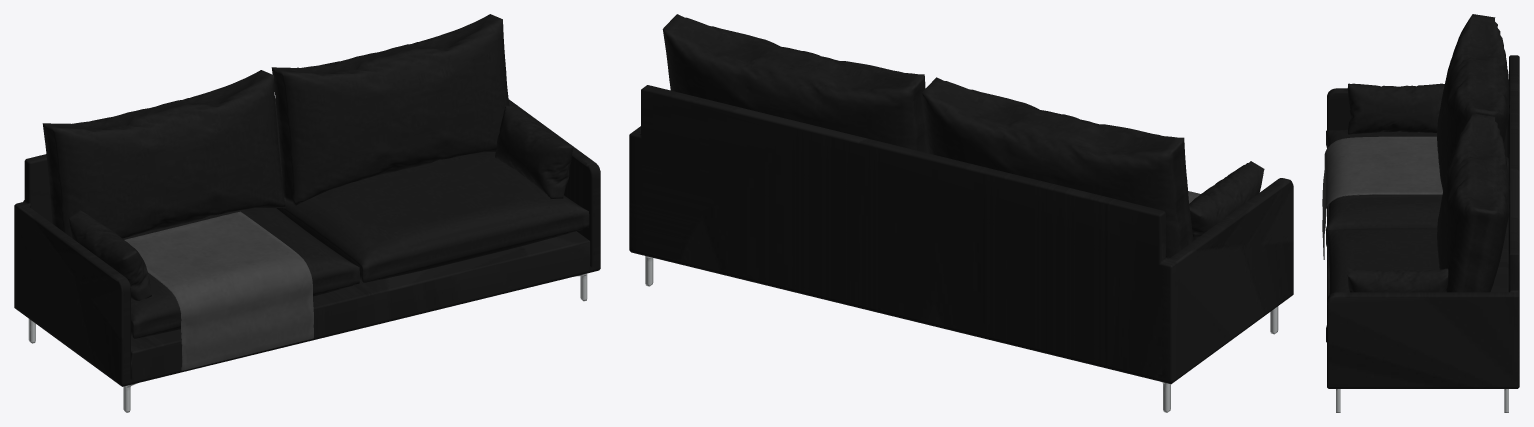
The picture shows the model from 3 angles, left to right: view 1: azimuth 30°, elevation 25°; view 2: azimuth 150°, elevation 25°; view 3: azimuth 270°, elevation 25°; orthographic projection. The views are drawn at different scales.
Visible parts, largest first — view 1: Handle_Cube.001, CushionRight_Cube.007, CushionLeft_Cube.006, CushionHandleRight_Cube.005, Plane_Plane.006, CushionHandleLeft_Cube.004, SideCushionRight_Cube.003, SideCushionLeft_Cube.002; view 2: Handle_Cube.001, CushionLeft_Cube.006, CushionRight_Cube.007, SideCushionLeft_Cube.002; view 3: Handle_Cube.001, CushionRight_Cube.007, Plane_Plane.006, CushionLeft_Cube.006, CushionHandleRight_Cube.005, CushionHandleLeft_Cube.004, SideCushionLeft_Cube.002, SideCushionRight_Cube.003.
Part boxes in pixels (<box>): Handle_Cube.001: <box>14,98,600,386</box>; CushionRight_Cube.007: <box>271,14,509,205</box>; CushionLeft_Cube.006: <box>42,70,285,238</box>; CushionHandleRight_Cube.005: <box>277,152,589,282</box>; Plane_Plane.006: <box>124,211,313,370</box>; CushionHandleLeft_Cube.004: <box>122,208,359,338</box>; SideCushionRight_Cube.003: <box>495,105,573,198</box>; SideCushionLeft_Cube.002: <box>68,210,151,300</box>; Handle_Cube.001: <box>629,85,1293,384</box>; CushionLeft_Cube.006: <box>922,77,1193,257</box>; CushionRight_Cube.007: <box>662,14,929,153</box>; SideCushionLeft_Cube.002: <box>1189,161,1264,240</box>; Handle_Cube.001: <box>1327,55,1519,388</box>; CushionRight_Cube.007: <box>1437,113,1509,292</box>; Plane_Plane.006: <box>1322,136,1442,259</box>; CushionLeft_Cube.006: <box>1437,14,1509,191</box>; CushionHandleRight_Cube.005: <box>1326,228,1439,342</box>; CushionHandleLeft_Cube.004: <box>1326,129,1442,230</box>; SideCushionLeft_Cube.002: <box>1347,83,1444,134</box>; SideCushionRight_Cube.003: <box>1347,268,1448,292</box>.
Bounding box in the file's own units: 5.43 × 2.45 × 2.17.
6 materials, 6 textured.
